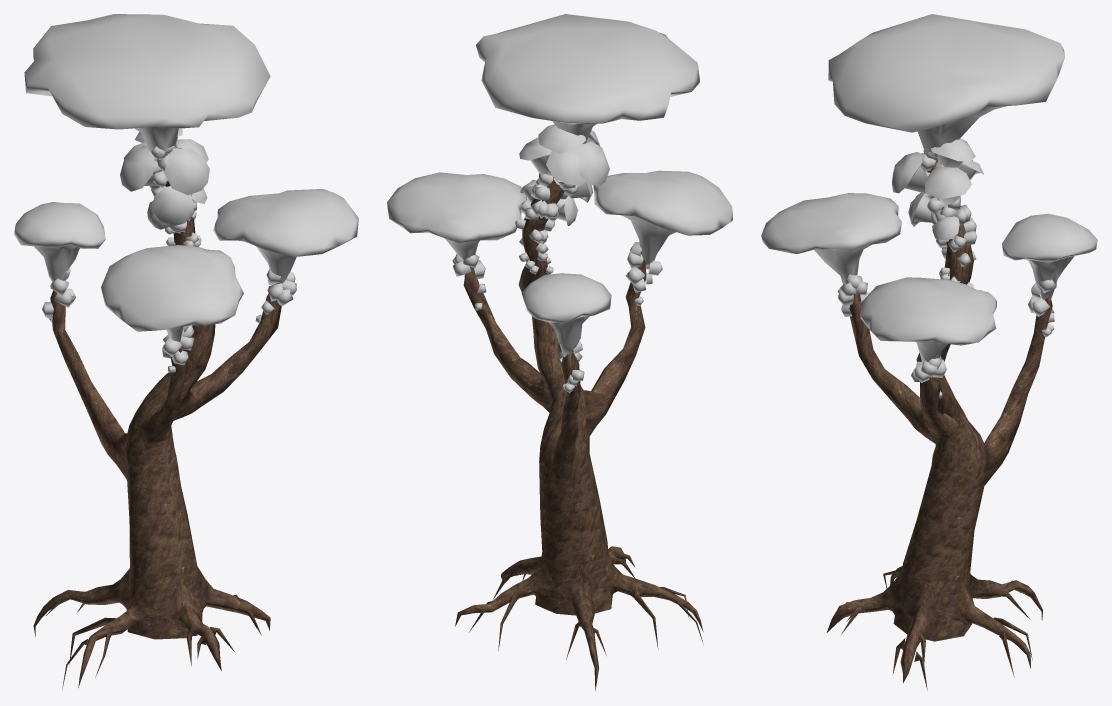
The model's file is Shrooomtree_1_L3.fbx.
3 renders of one model, left to right at view 1: azimuth 30°, elevation 25°; view 2: azimuth 150°, elevation 25°; view 3: azimuth 270°, elevation 25°, orthographic. The views are drawn at different scales.
Visible parts, largest first — view 1: polySurface73; view 2: polySurface73; view 3: polySurface73.
Part boxes in pixels (bbox=[...]): polySurface73: bbox=[14, 14, 358, 690]; polySurface73: bbox=[387, 14, 732, 691]; polySurface73: bbox=[761, 14, 1097, 690].
Bounding box in the file's own units: 654 × 1279 × 641.
